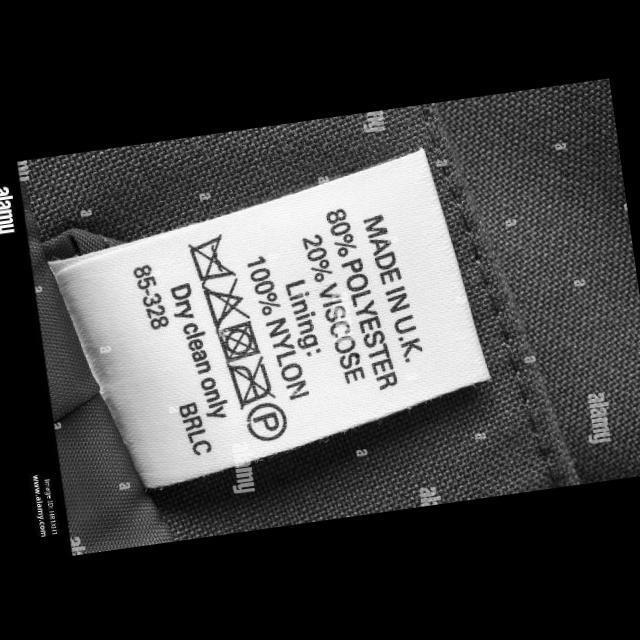DN_bleach: (197, 272, 255, 336)
DN_iron: (222, 352, 280, 416)
DN_tumble_dry: (210, 316, 266, 366)
DN_wash: (184, 230, 242, 294)
normal_dry_clean_solvents: (242, 399, 294, 448)
